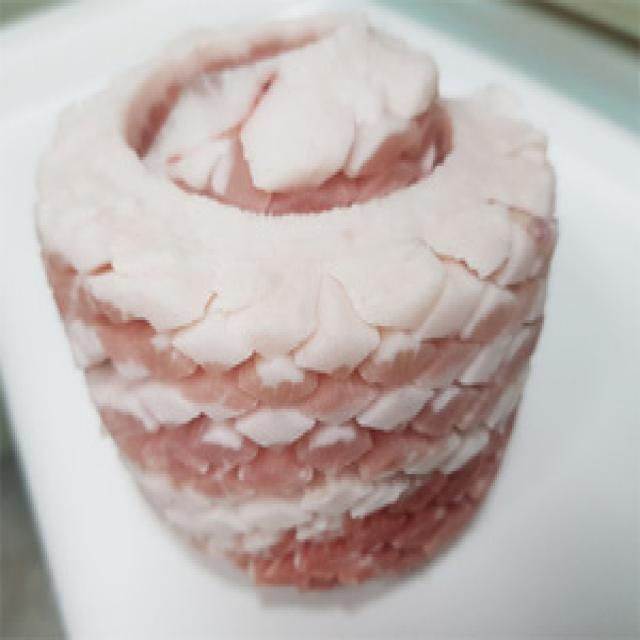pork: (20, 22, 571, 611)
